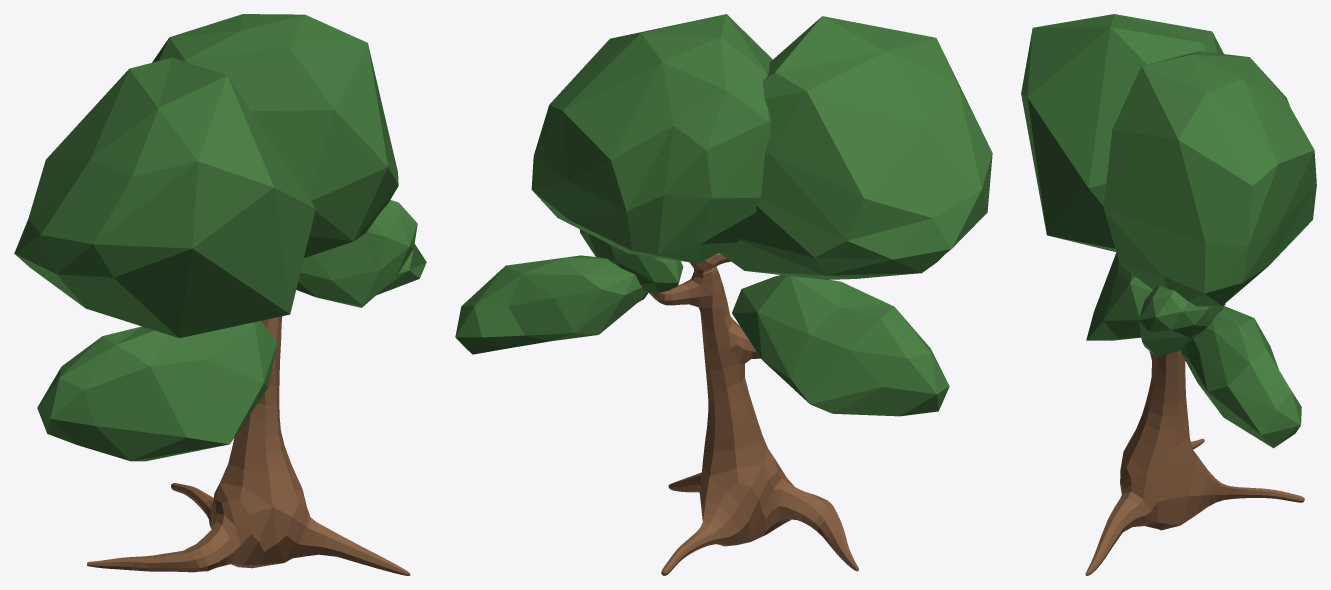
The model's file is shrek_tree01_01.fbx.
3 views of the same model, side by side, from view 1: azimuth 30°, elevation 25°; view 2: azimuth 150°, elevation 25°; view 3: azimuth 270°, elevation 25° (orthographic). The views are drawn at different scales.
Visible parts, largest first — view 1: Plane; view 2: Plane; view 3: Plane.
Boxes of the visible parts, x1,y1,x2,y2 form: Plane: (14,14,426,575); Plane: (455,14,992,575); Plane: (1021,14,1316,575).
Bounding box in the file's own units: 2578 × 2857 × 1611.
